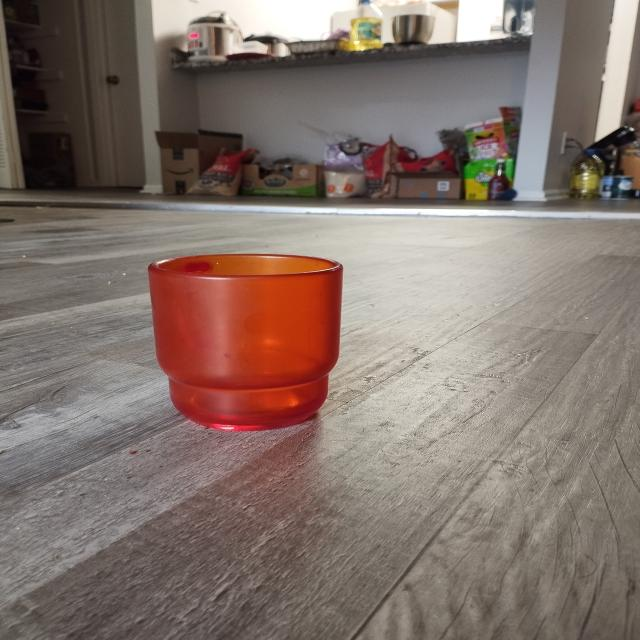Cup: (113, 238, 409, 472)
